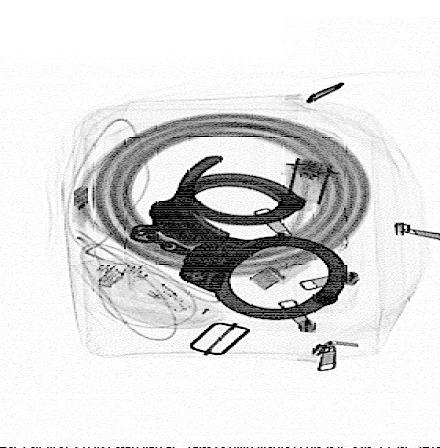HandCuffs: (126, 153, 350, 324)
